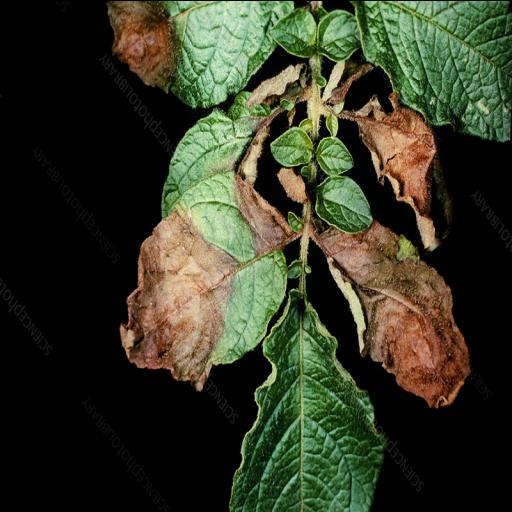disease_tomato: (114, 166, 290, 398), (308, 210, 470, 418), (101, 0, 297, 114), (346, 90, 454, 249)
